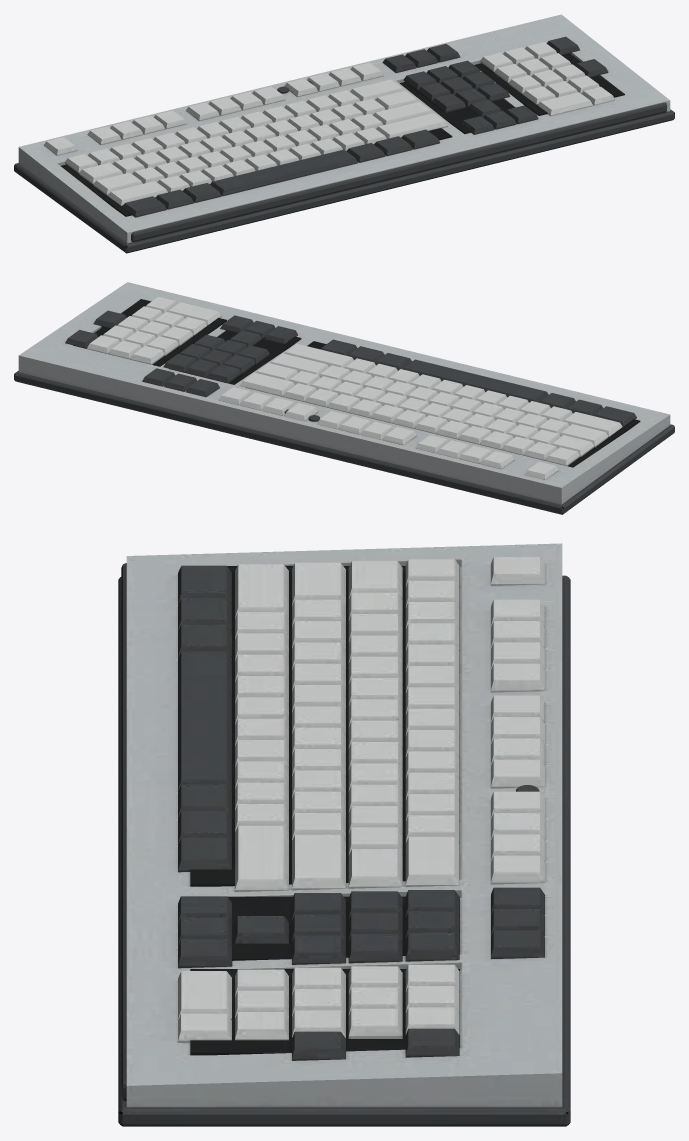
The model's file is keyboard-e.glb.
The picture shows the model from 3 angles, top to bottom: view 1: azimuth 30°, elevation 25°; view 2: azimuth 150°, elevation 25°; view 3: azimuth 270°, elevation 25°; orthographic projection. The views are drawn at different scales.
Parts seen in each view (by area): view 1: case-baked; view 2: case-baked; view 3: case-baked.
Boxes of the visible parts, left/top/right/bottom form: case-baked: left=14, top=14, right=674, bottom=253; case-baked: left=14, top=282, right=674, bottom=514; case-baked: left=118, top=543, right=570, bottom=1126.
Bounding box in the file's own units: 0.458 × 0.0238 × 0.163.
Materials: 1 (1 with a texture image).
